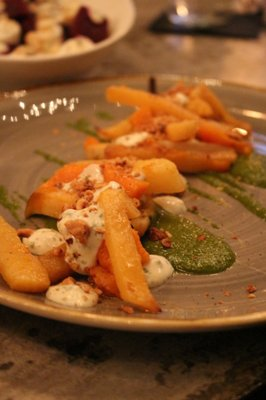sushi: (0, 0, 137, 91)
